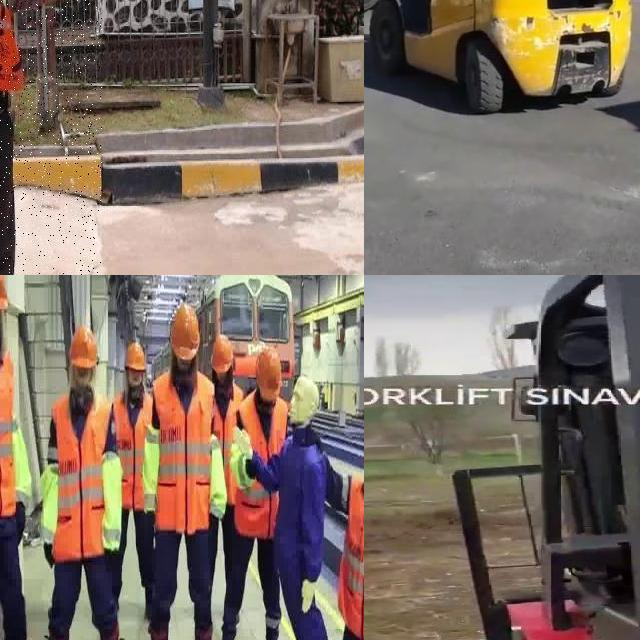BOOTS: (256, 625, 289, 640), (219, 622, 241, 640)
GLOVE: (14, 500, 27, 542), (45, 541, 58, 569)
HELMET: (170, 306, 201, 362), (256, 347, 282, 405), (68, 326, 98, 372), (210, 335, 234, 375), (125, 342, 146, 375)
VEST: (52, 394, 112, 563), (153, 371, 213, 533), (237, 390, 289, 540), (114, 385, 154, 508), (338, 475, 364, 640), (212, 384, 243, 504), (0, 0, 26, 117), (0, 338, 15, 523)
